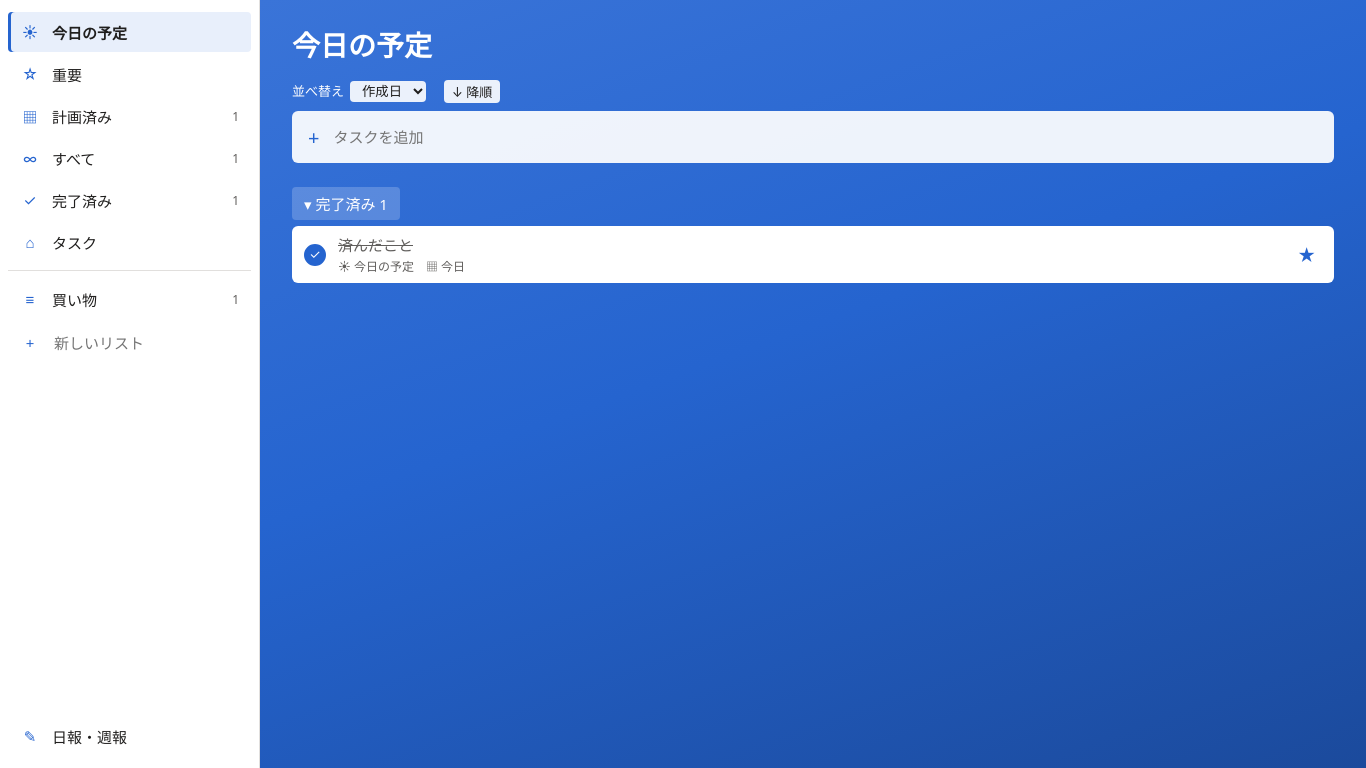
Scenario: App › 異常系: 日報のコピーや保存に失敗したら、メッセージを出す
Click the button "✎ 日報・週報".
click(130, 736)  # box [8,716,251,756]
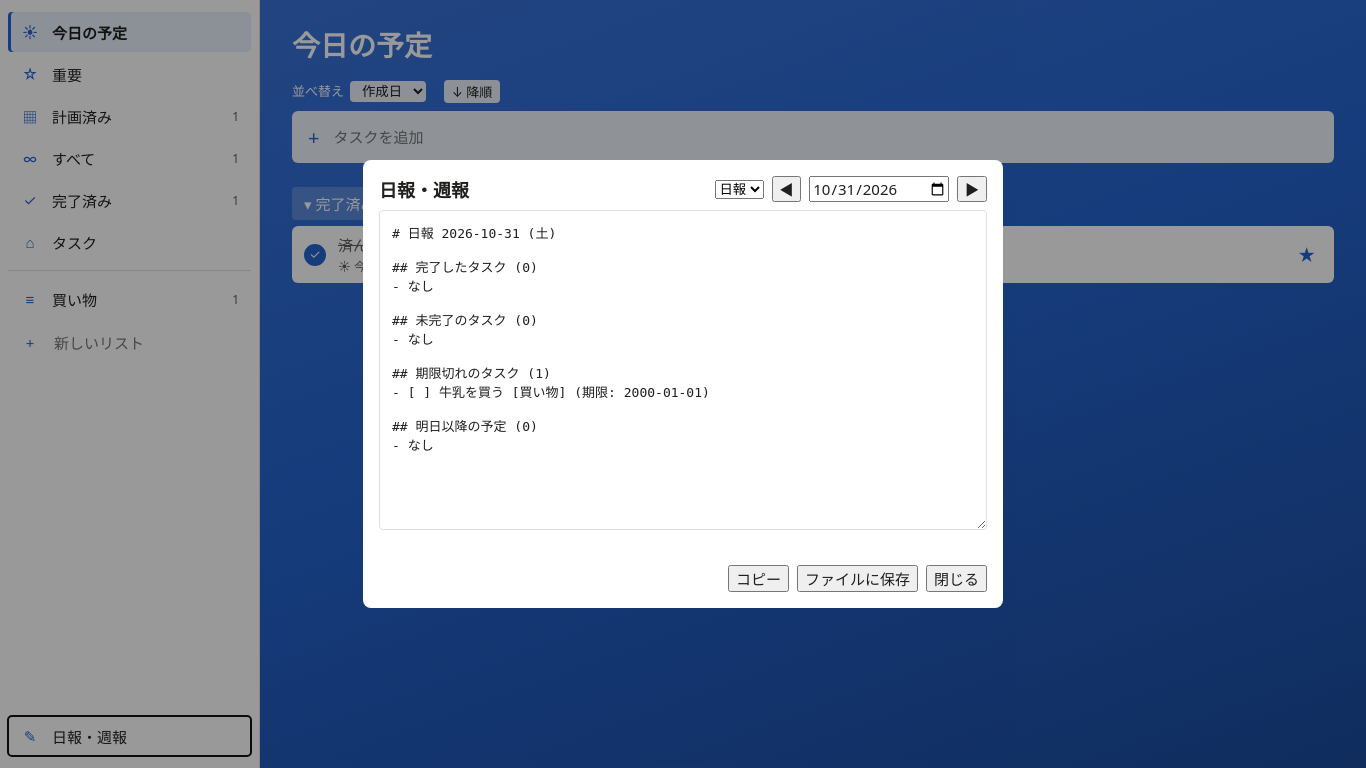
Click the button "コピー".
click(758, 578)  # box [728,565,789,592]
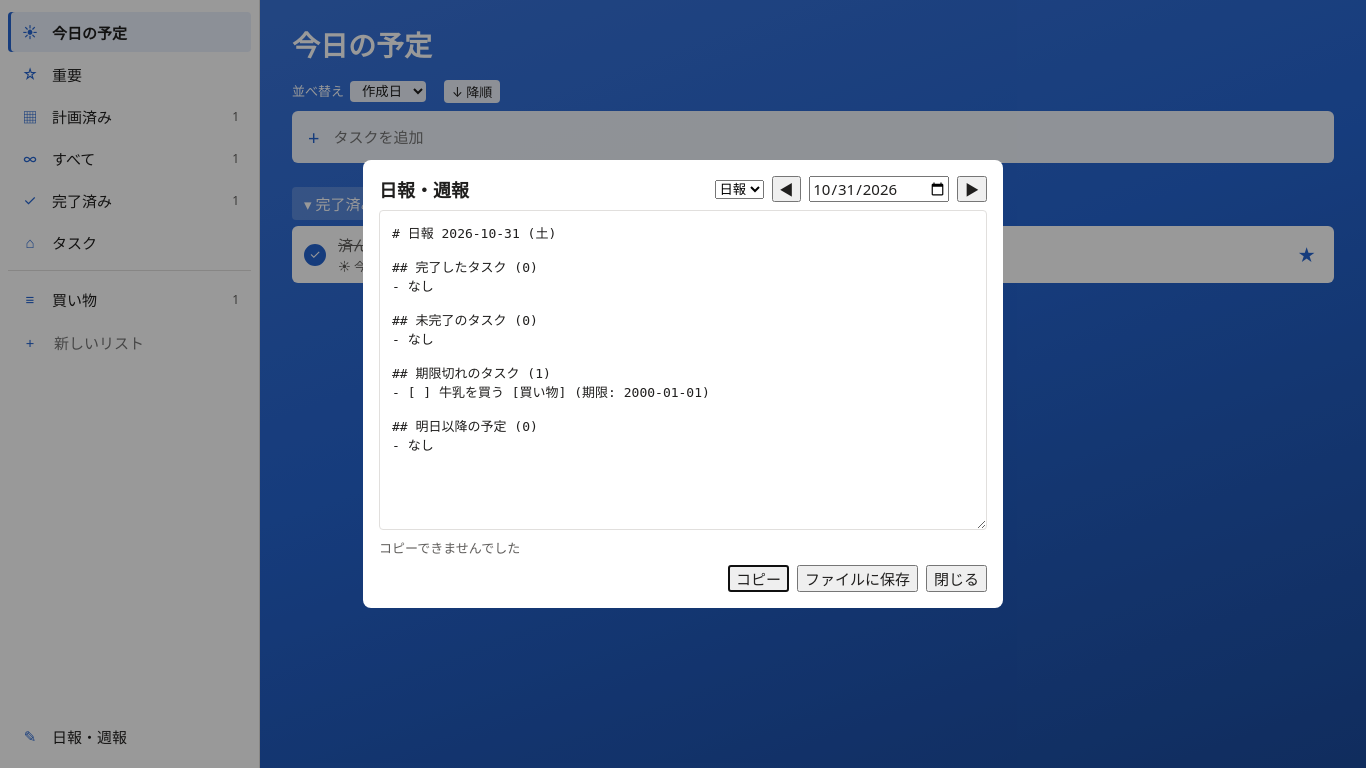
Expected: the message reads "コピーできませんでした", [379,539,520,557]
Click the button "ファイルに保存".
click(858, 578)  # box [797,565,918,592]
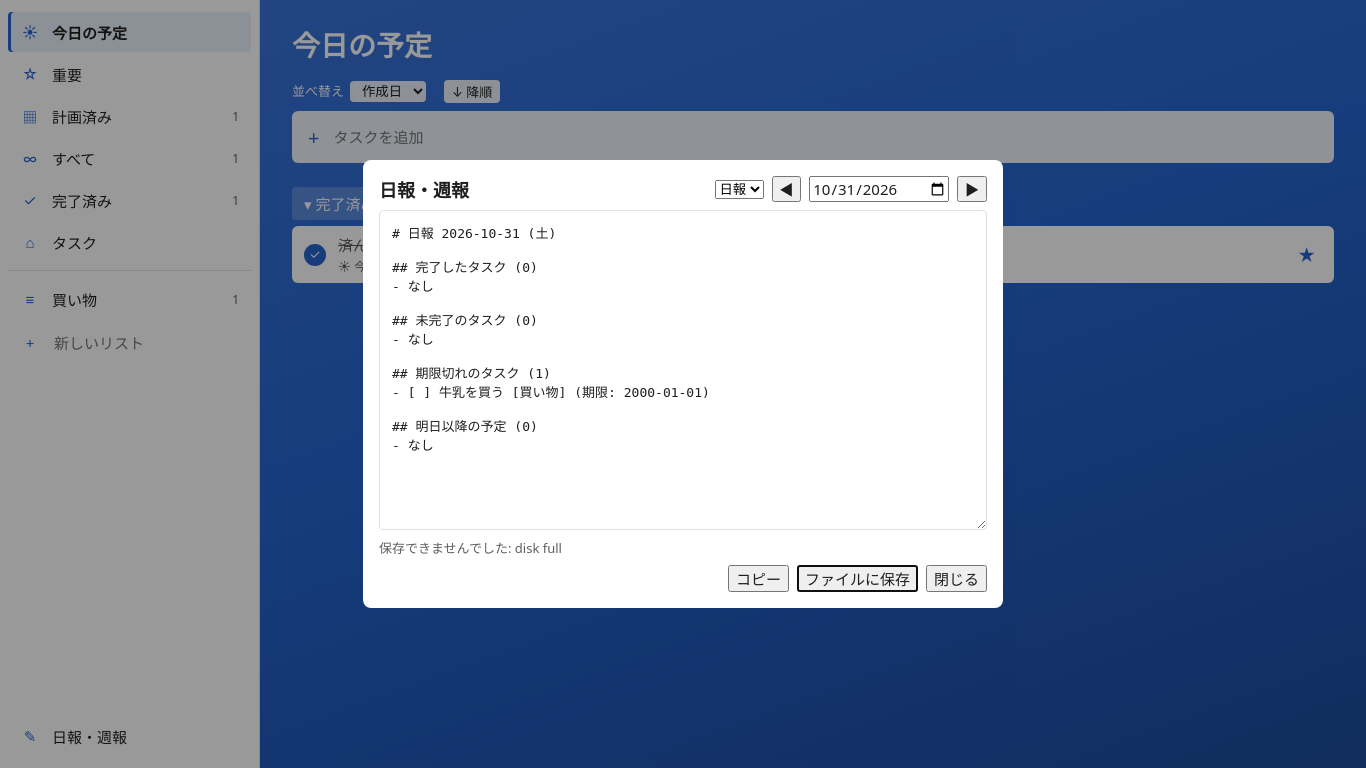
Expected: the message shows "disk full", [379,539,562,557]
